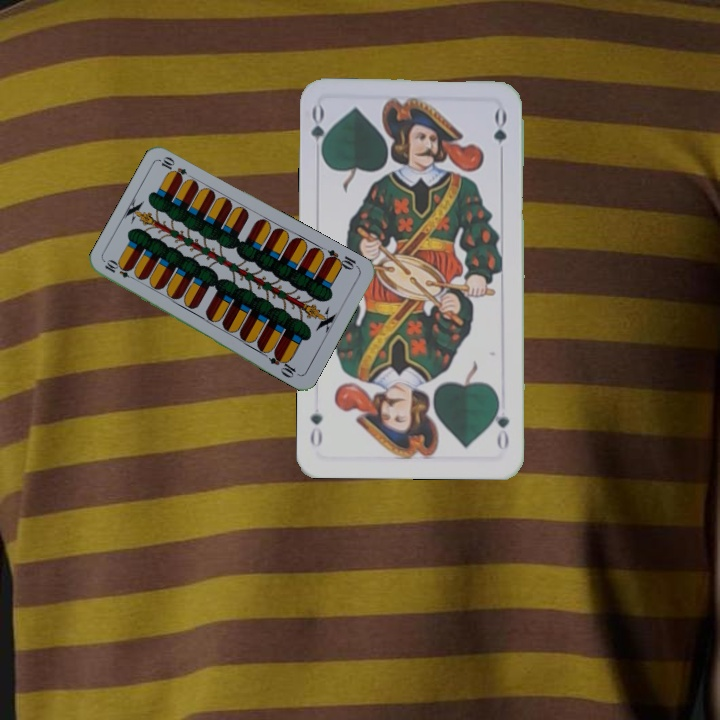E10: (322, 245, 361, 273), (101, 257, 140, 283)
GO: (307, 103, 333, 162), (489, 394, 512, 452)
